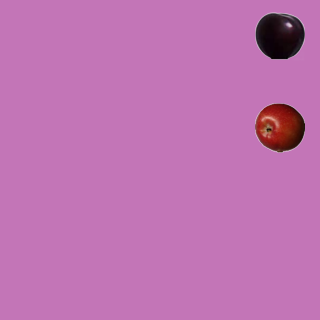Apple Braeburn: (254, 102, 304, 152)
Cherry Wax Black: (254, 10, 304, 60)
